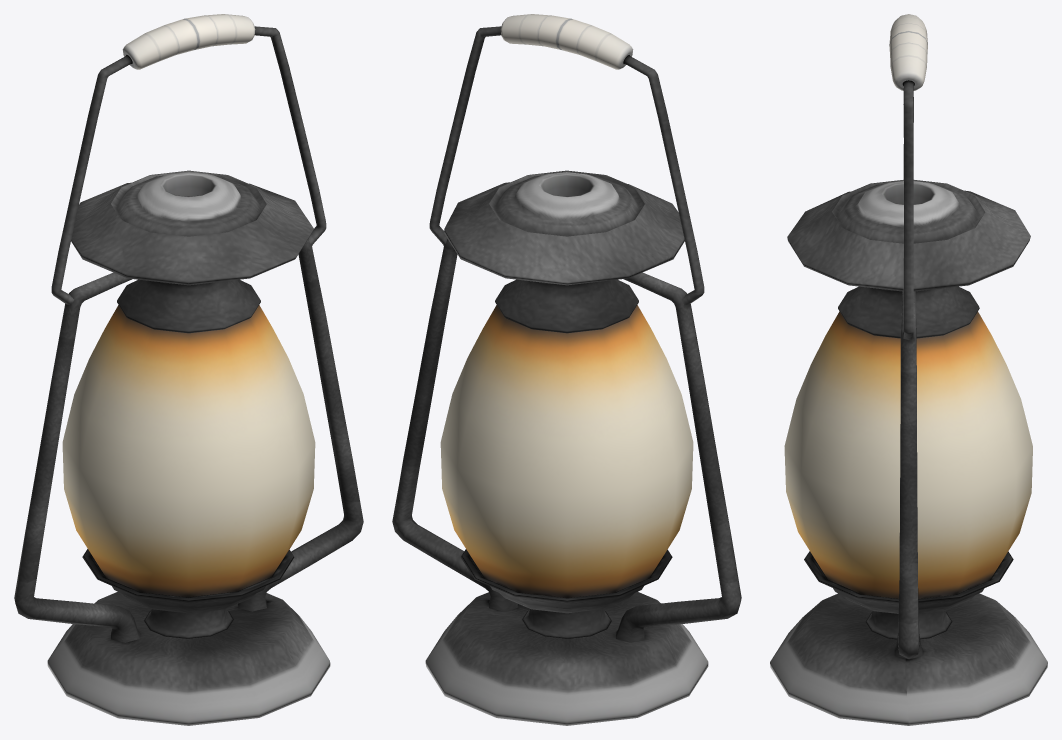
File: lantern.fbx
3 renders of one model, left to right at view 1: azimuth 30°, elevation 25°; view 2: azimuth 150°, elevation 25°; view 3: azimuth 270°, elevation 25°, orthographic.
Parts seen in each view (by area): view 1: rantan; view 2: rantan; view 3: rantan.
Boxes of the visible parts, left/top/right/bottom form: rantan: left=14, top=14, right=363, bottom=725; rantan: left=392, top=14, right=741, bottom=725; rantan: left=770, top=14, right=1047, bottom=725.
Bounding box in the file's own units: 180 × 320 × 126.
